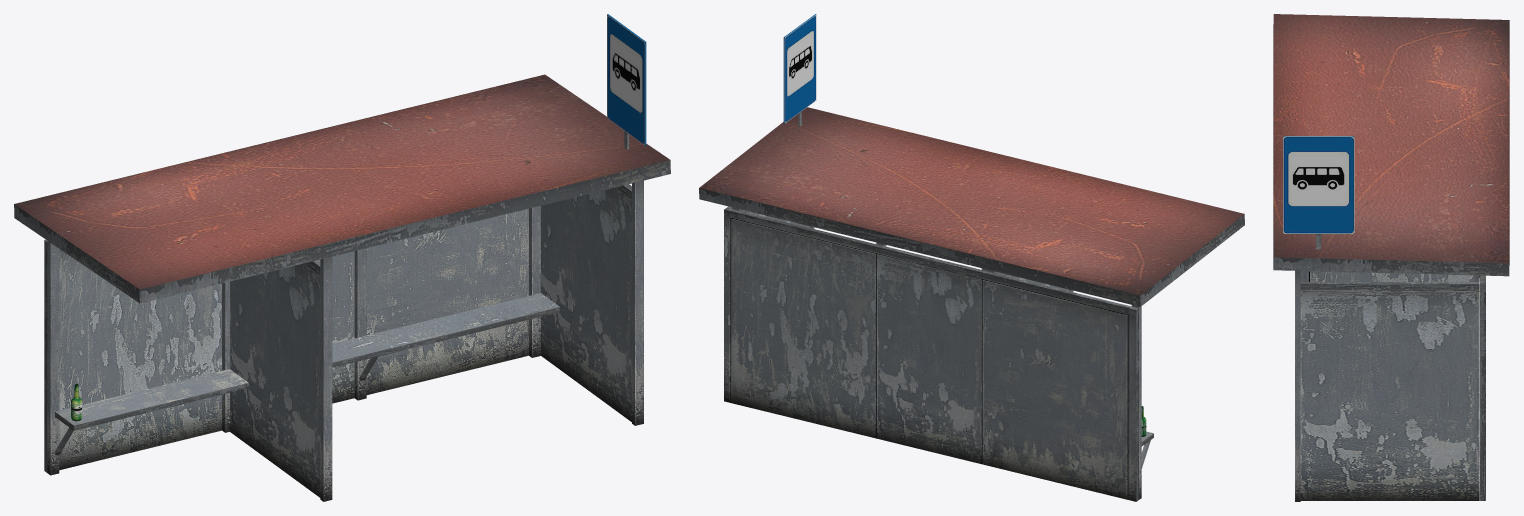
Rendered from r402_ravnec_ostanovka.FBX.
3 renders of one model, left to right at view 1: azimuth 30°, elevation 25°; view 2: azimuth 150°, elevation 25°; view 3: azimuth 270°, elevation 25°, orthographic. The views are drawn at different scales.
Parts seen in each view (by area): view 1: r402_ravnec_ostanovka; view 2: r402_ravnec_ostanovka; view 3: r402_ravnec_ostanovka.
Boxes of the visible parts, left/top/right/bottom form: r402_ravnec_ostanovka: left=14, top=14, right=670, bottom=501; r402_ravnec_ostanovka: left=699, top=14, right=1244, bottom=501; r402_ravnec_ostanovka: left=1273, top=14, right=1509, bottom=501.
Bounding box in the file's own units: 482 × 198 × 336.
